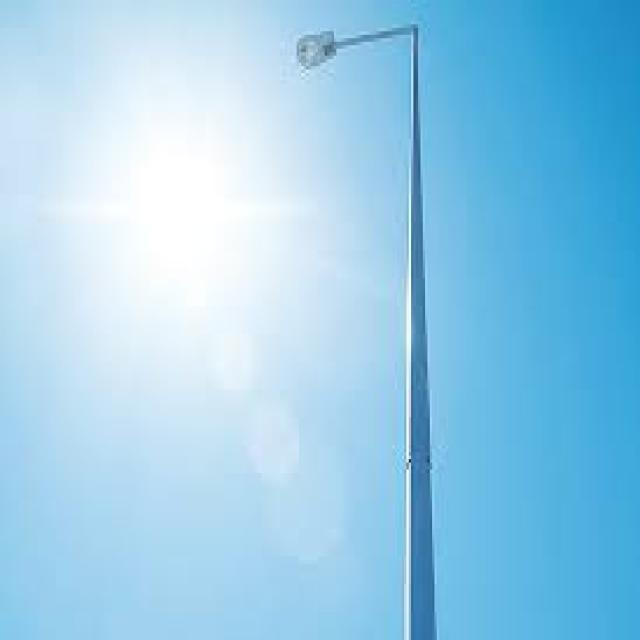Street Light: (294, 21, 434, 640)
